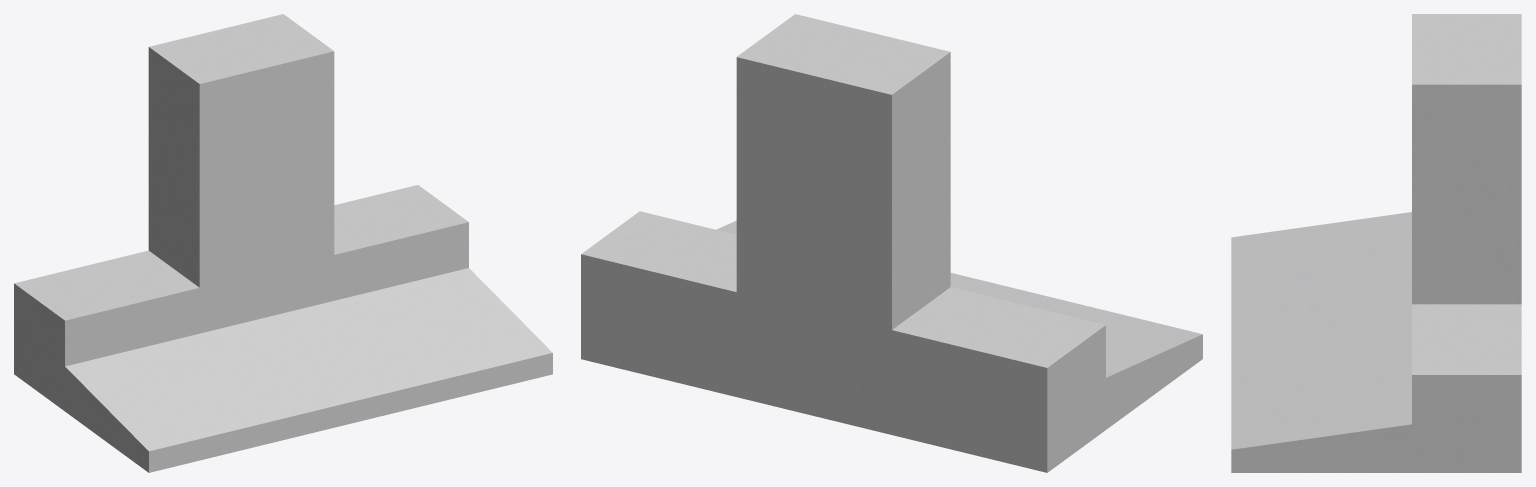
Rendered from KitchenExhaust04.fbx.
The picture shows the model from 3 angles, left to right: view 1: azimuth 30°, elevation 25°; view 2: azimuth 150°, elevation 25°; view 3: azimuth 270°, elevation 25°; orthographic projection. The views are drawn at different scales.
Parts seen in each view (by area): view 1: KitchenExhaust04; view 2: KitchenExhaust04; view 3: KitchenExhaust04.
Boxes of the visible parts, <box> form: KitchenExhaust04: <box>14,14,552,472</box>; KitchenExhaust04: <box>581,14,1202,472</box>; KitchenExhaust04: <box>1231,14,1521,472</box>.
Size of the model in its own units: 66.54 by 46.38 by 38.45.
